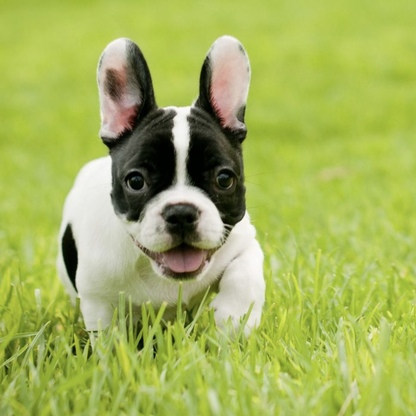bulldog: (54, 35, 274, 345)
